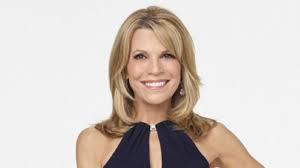white_female: (125, 15, 201, 122)
